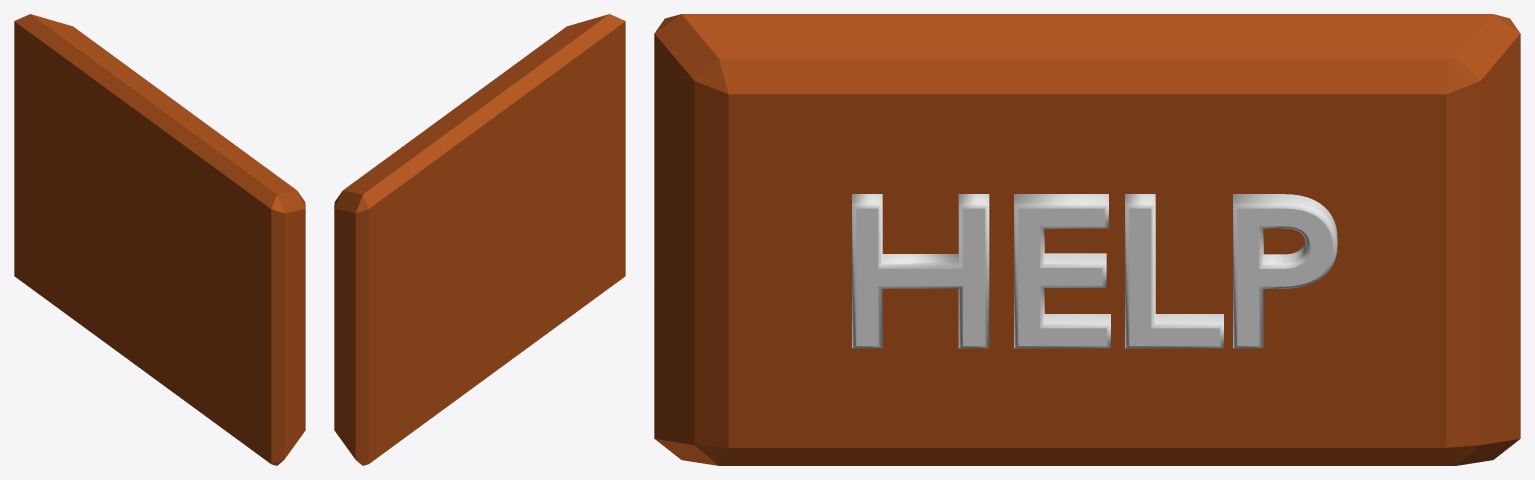
The picture shows the model from 3 angles, left to right: view 1: azimuth 30°, elevation 25°; view 2: azimuth 150°, elevation 25°; view 3: azimuth 270°, elevation 25°; orthographic projection. The views are drawn at different scales.
Parts seen in each view (by area): view 1: Cube.003-col; view 2: Cube.003-col; view 3: Cube.003-col, Text.001.
Part boxes in pixels (x1,y1,x2,y2): Cube.003-col: [14, 14, 305, 465]; Cube.003-col: [334, 14, 625, 465]; Cube.003-col: [654, 14, 1520, 465]; Text.001: [852, 194, 1337, 348].
Bounding box in the file's own units: 0.5682 × 2.21 × 3.9.
